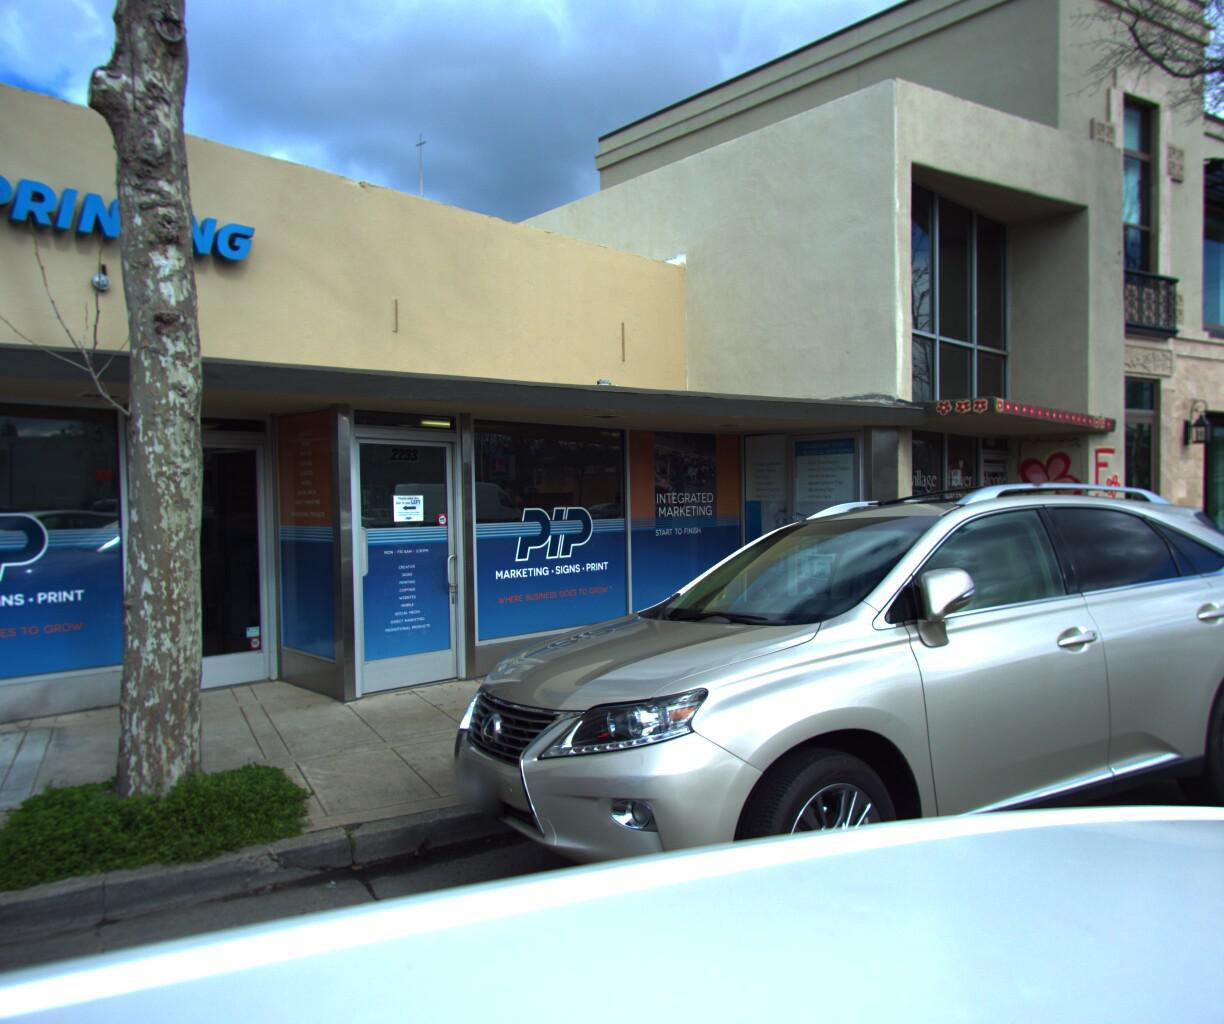car: (403, 464, 1224, 1024)
